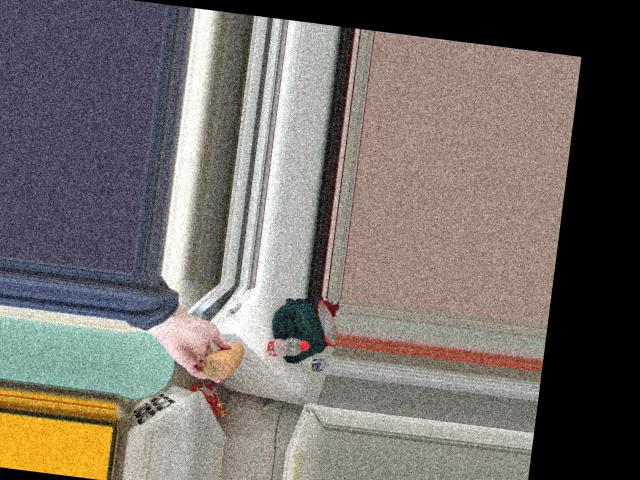sweet_potato: (196, 334, 245, 378)
